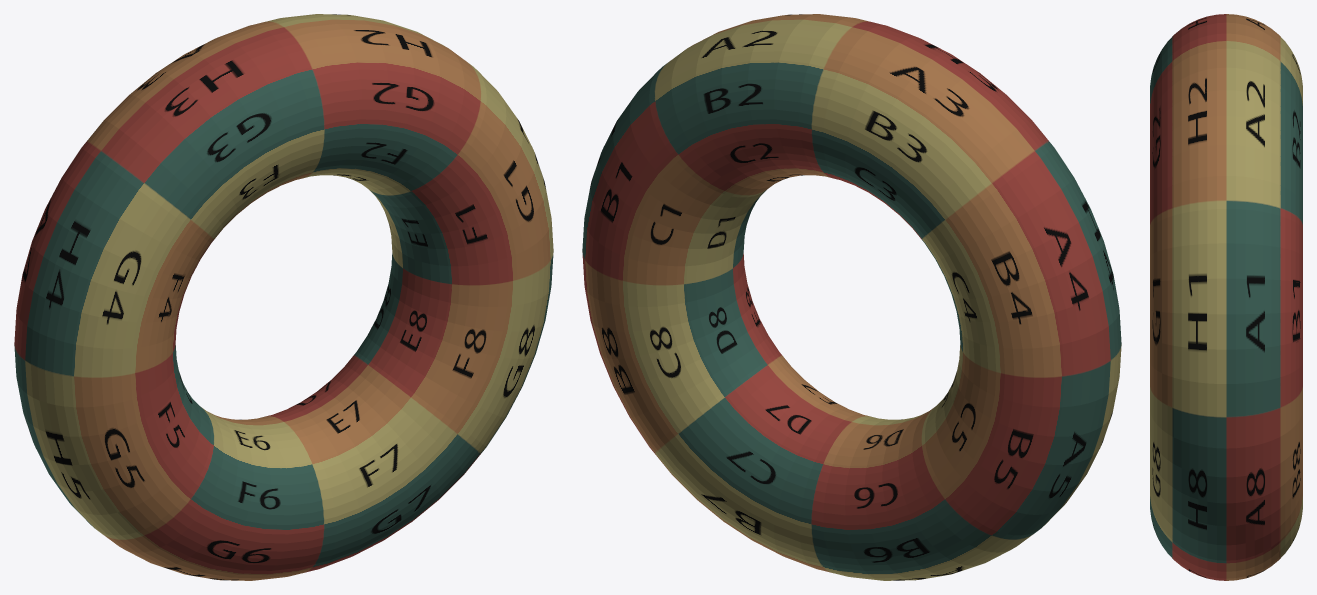
The model's file is texture_torus_R18_r23.glb.
3 views of the same model, side by side, from view 1: azimuth 30°, elevation 25°; view 2: azimuth 150°, elevation 25°; view 3: azimuth 270°, elevation 25° (orthographic). The views are drawn at different scales.
Parts seen in each view (by area): view 1: world; view 2: world; view 3: world.
Part boxes in pixels (left/top/right/bottom): world: left=14, top=14, right=553, bottom=580; world: left=582, top=14, right=1121, bottom=580; world: left=1150, top=14, right=1302, bottom=580.
Bounding box in the file's own units: 30.13 × 30.07 × 8.12.
1 material, 1 textured.
